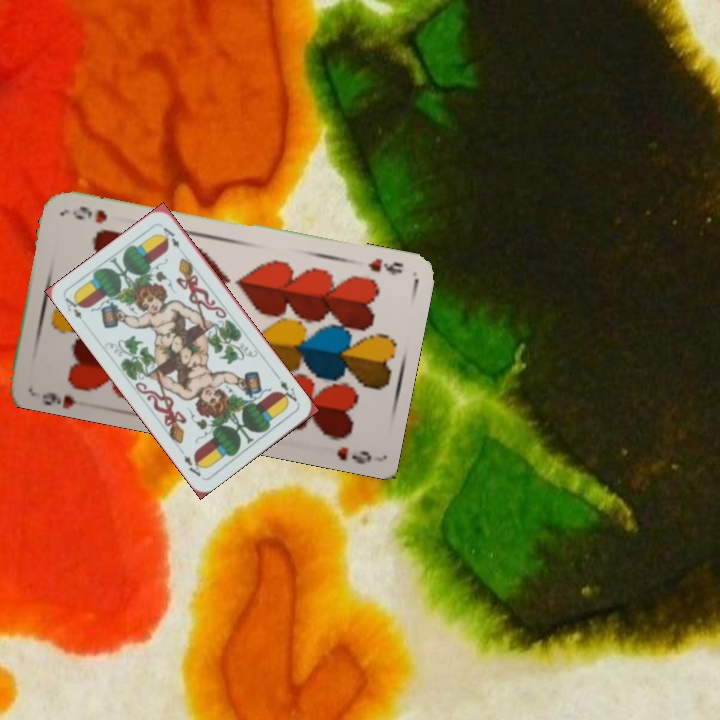EA: (272, 371, 300, 406), (60, 292, 86, 322)
H9: (38, 388, 88, 409), (364, 254, 406, 277)
